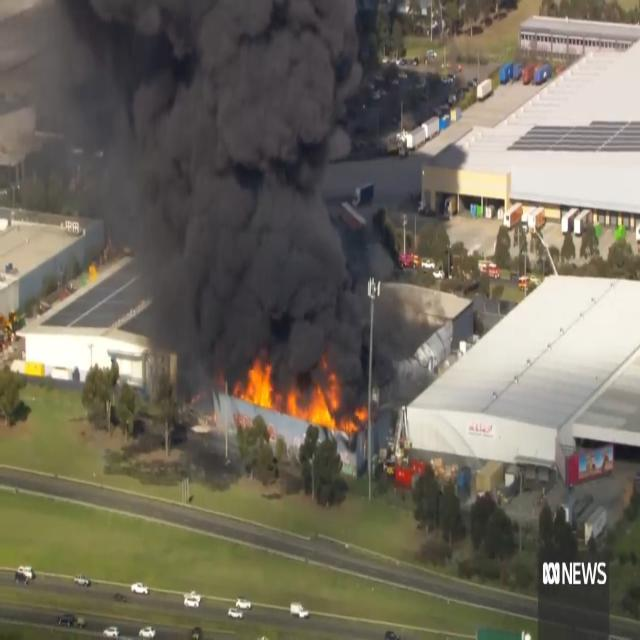fire: (290, 374, 370, 432), (240, 356, 276, 409)
